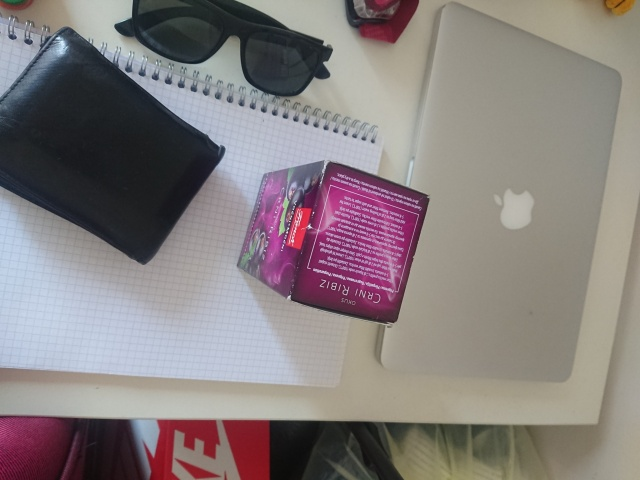Franck Black Currant Tea 60g: (234, 156, 433, 330)
